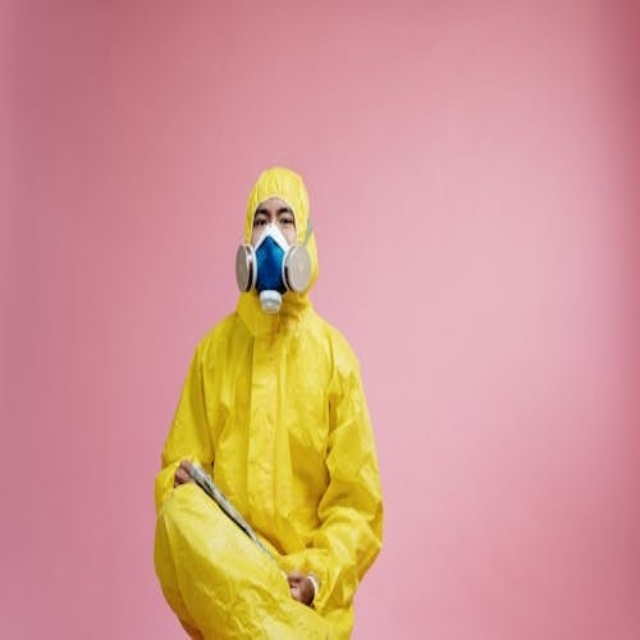Mascara: (236, 223, 312, 311)
Sin_gafas: (250, 202, 296, 234)
Sin_guantes: (287, 572, 316, 607), (173, 460, 197, 488)
